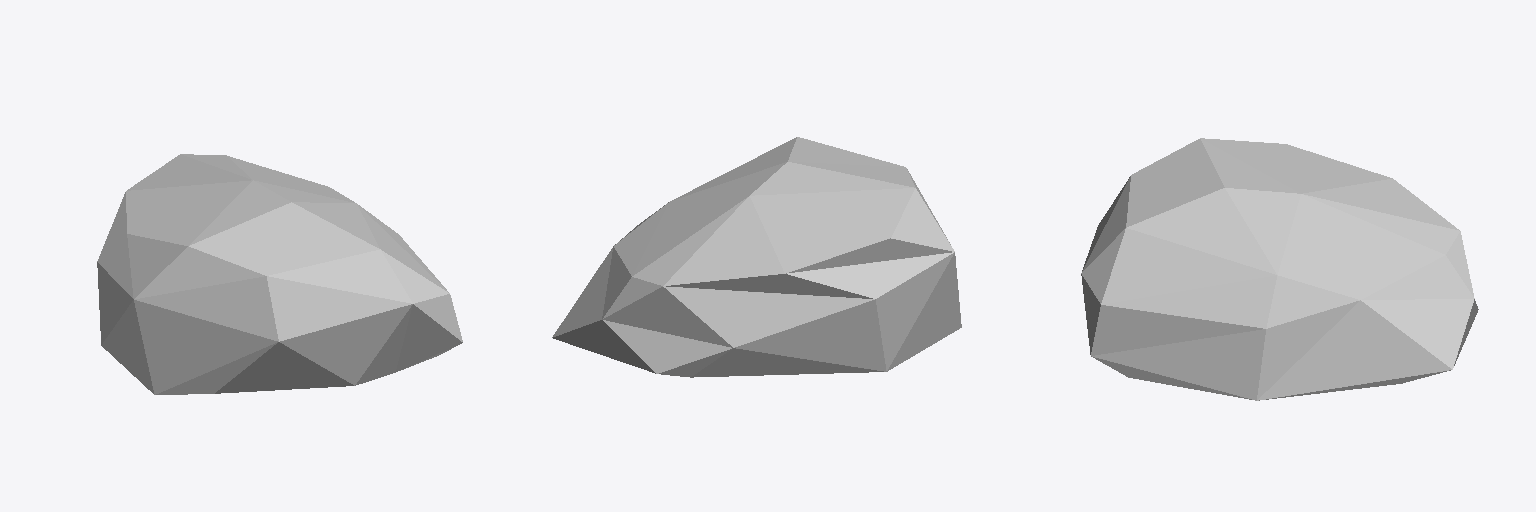
Rendered from Rock_01.obj.
3 renders of one model, left to right at view 1: azimuth 30°, elevation 25°; view 2: azimuth 150°, elevation 25°; view 3: azimuth 270°, elevation 25°, orthographic.
Visible parts, largest first — view 1: Rock; view 2: Rock; view 3: Rock.
Part boxes in pixels (x1,y1,x2,y2): Rock: (97, 154, 462, 394); Rock: (552, 137, 961, 377); Rock: (1081, 138, 1478, 400).
Size of the model in its own units: 2.05 by 0.913 by 2.28.